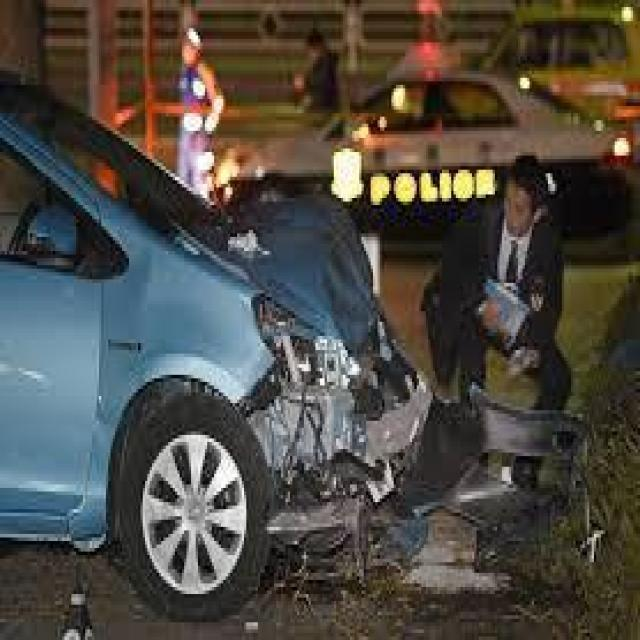damaged: (182, 198, 376, 446), (269, 332, 426, 576)
